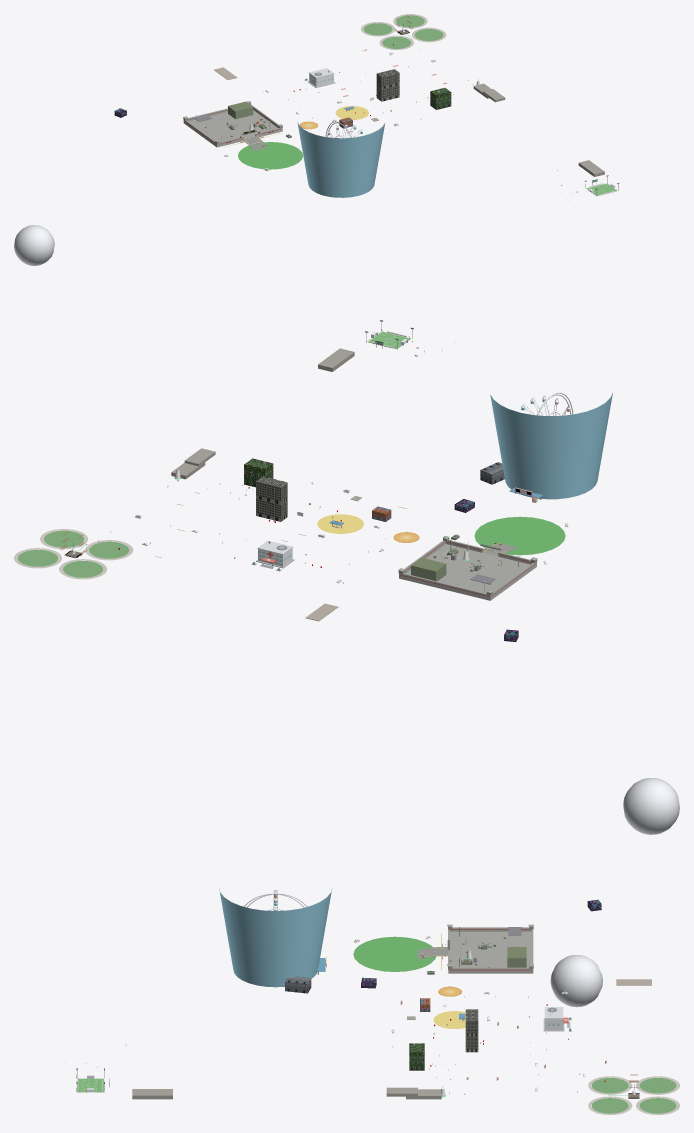
File: tile_-500_0.glb
3 views of the same model, one above another, from view 1: azimuth 30°, elevation 25°; view 2: azimuth 150°, elevation 25°; view 3: azimuth 270°, elevation 25° (orthographic). The views are drawn at different scales.
Visible parts, largest first — view 1: tile; view 2: tile; view 3: tile.
Part boxes in pixels (x1,y1,x2,y2): tile: [14, 14, 619, 265]; tile: [14, 320, 679, 834]; tile: [65, 888, 679, 1114].
Size of the model in its own units: 555 by 218 by 557.
163 materials, 29 textured.
